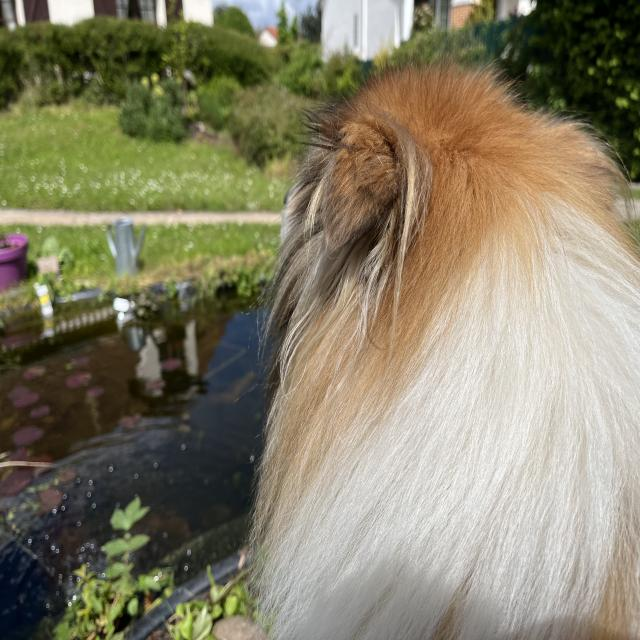Dog: (245, 51, 640, 640)
